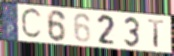2: (95, 13, 118, 47)
3: (123, 16, 141, 49)
6: (46, 9, 68, 43), (73, 12, 92, 44)
C: (20, 7, 44, 42)
T: (146, 18, 166, 49)
